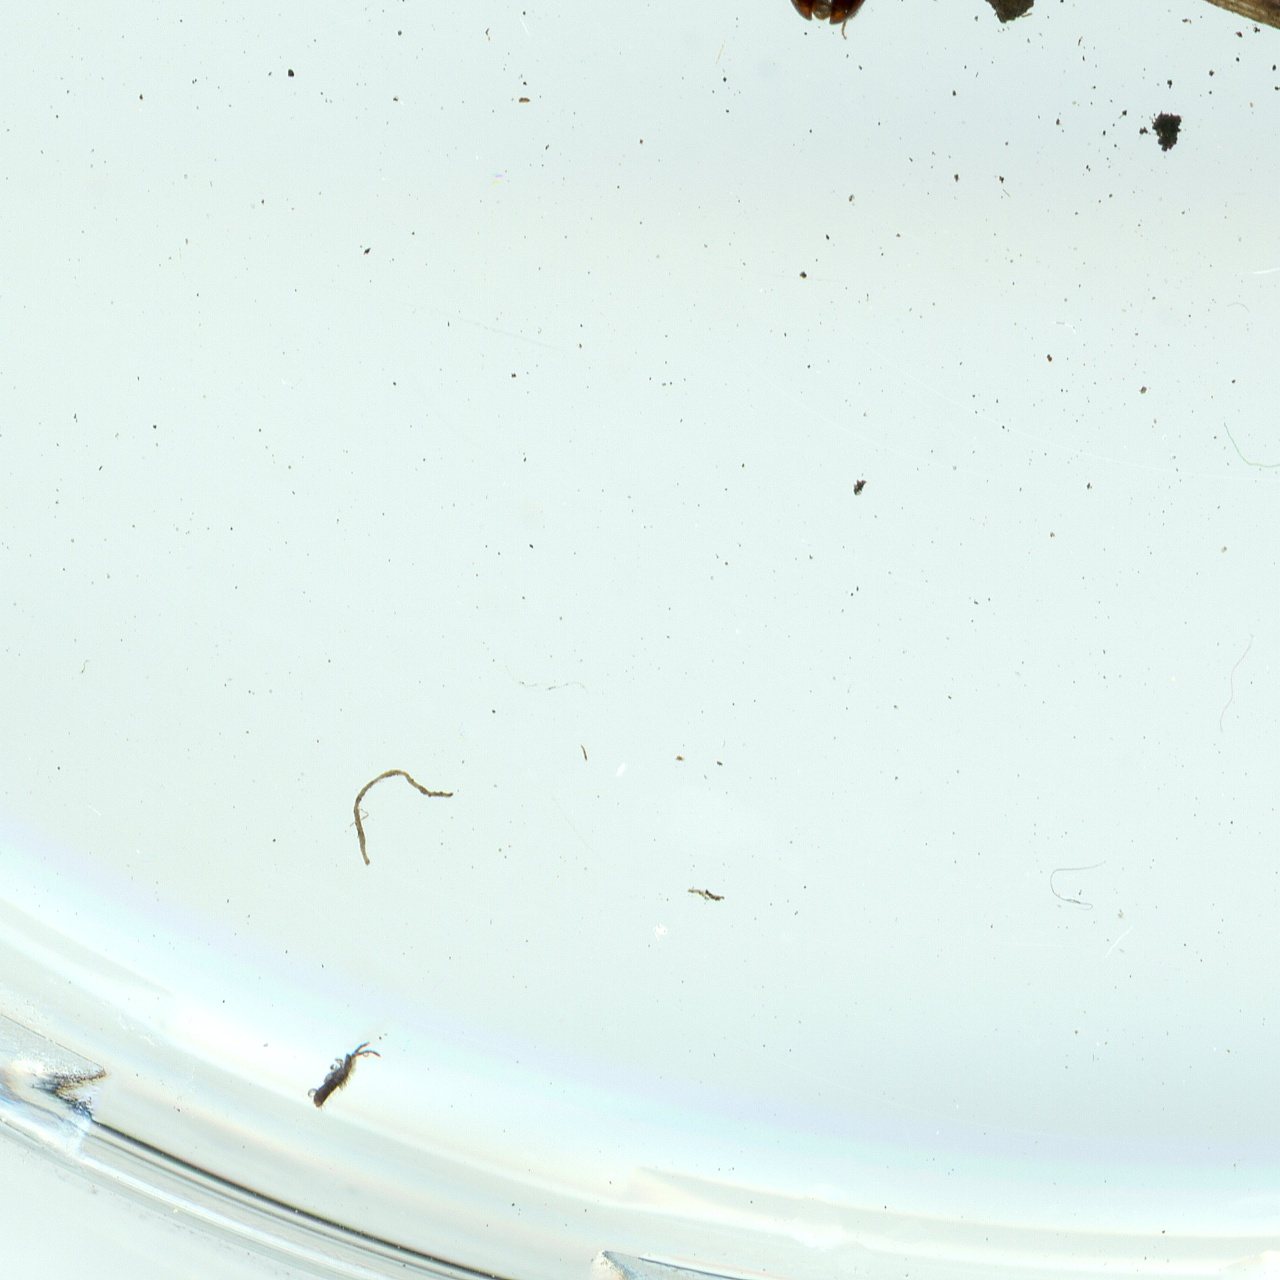arthropod: (755, 0, 914, 50), (300, 1039, 382, 1116)
